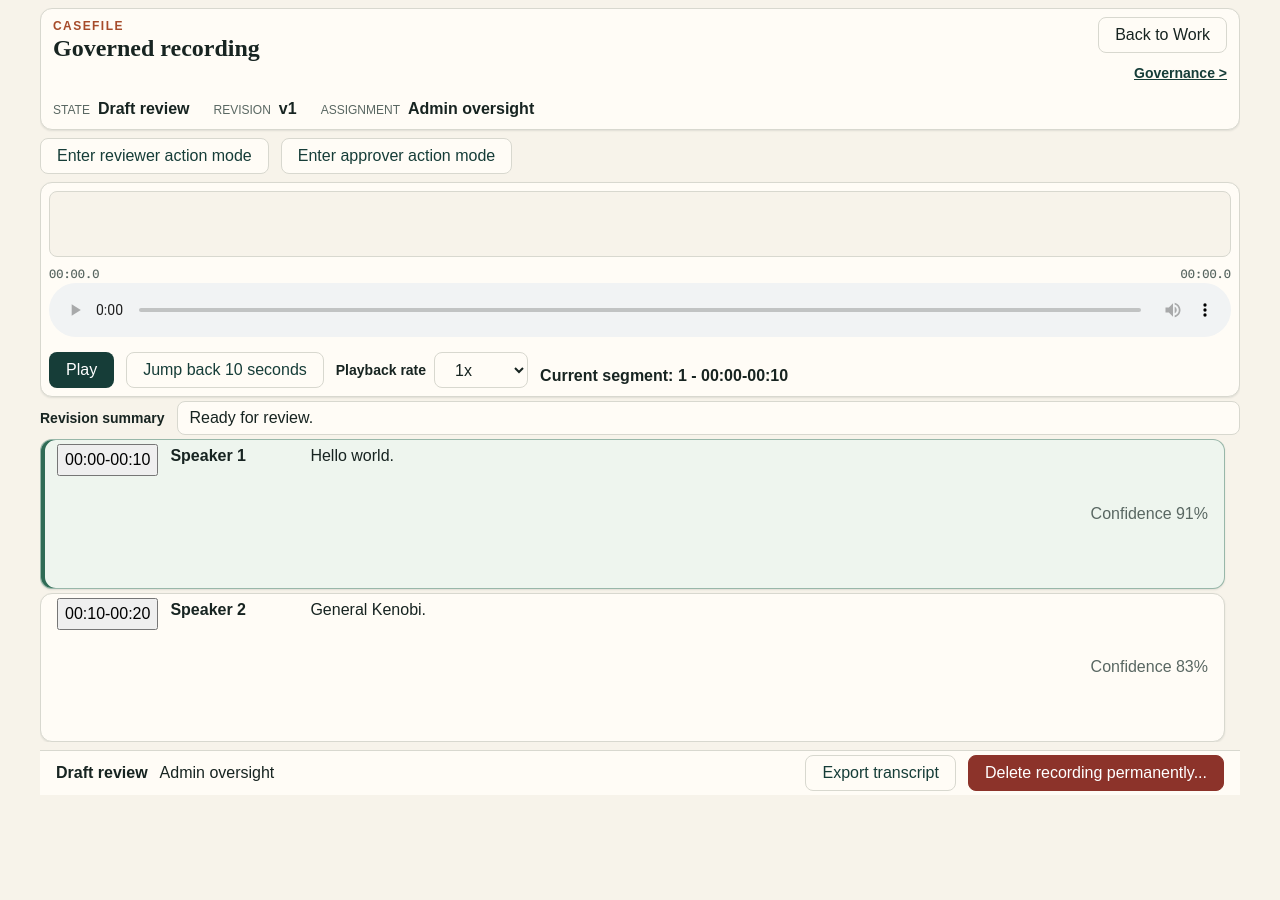
Test case: CasefileWorkspace › offers approver action-mode entry in Governance without an active action-mode session
Click the button "Governance >": coordinates (1180, 73) [1134,57,1227,89]
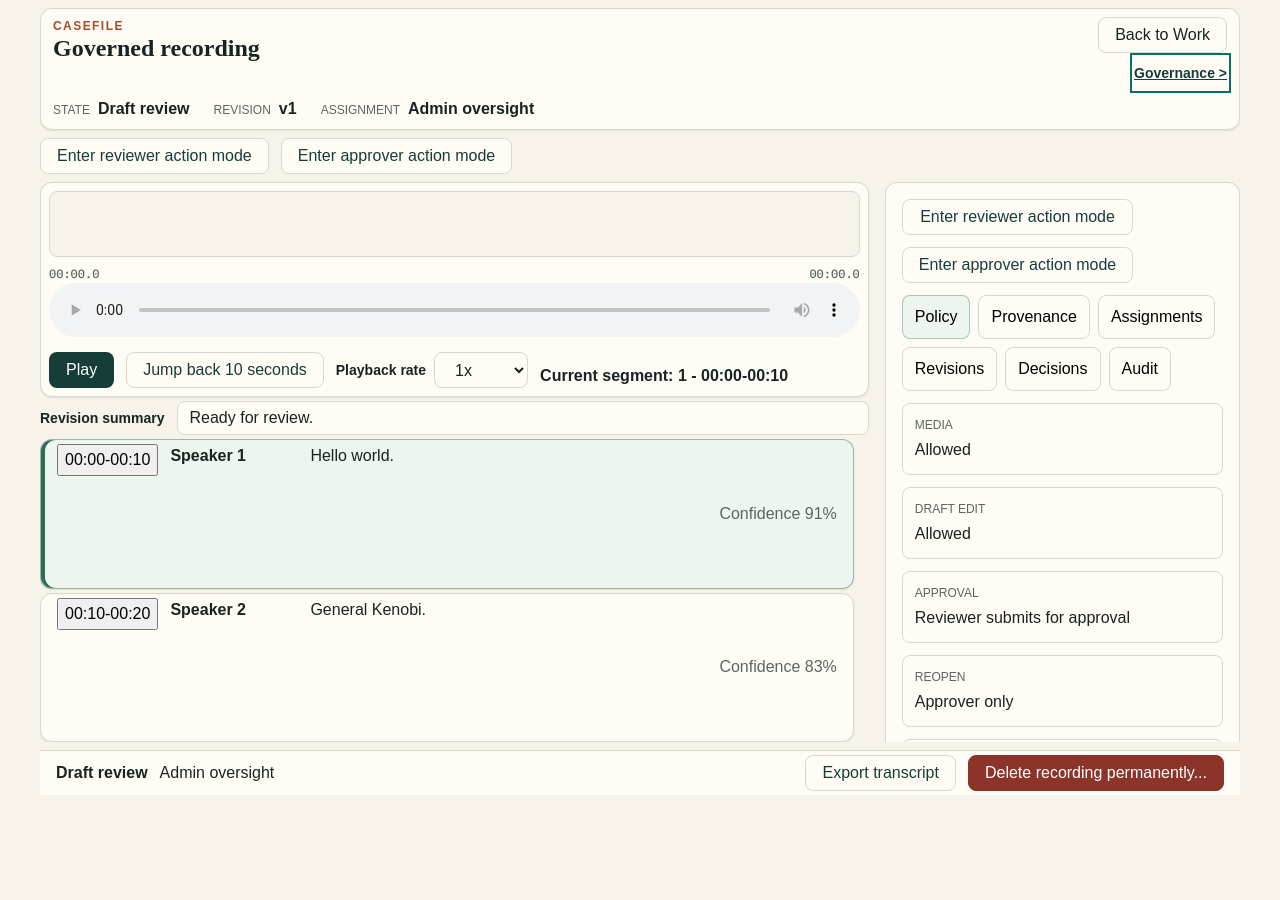
Check: the 2nd button "Enter approver action mode" is shown, box [902,247,1133,283]
